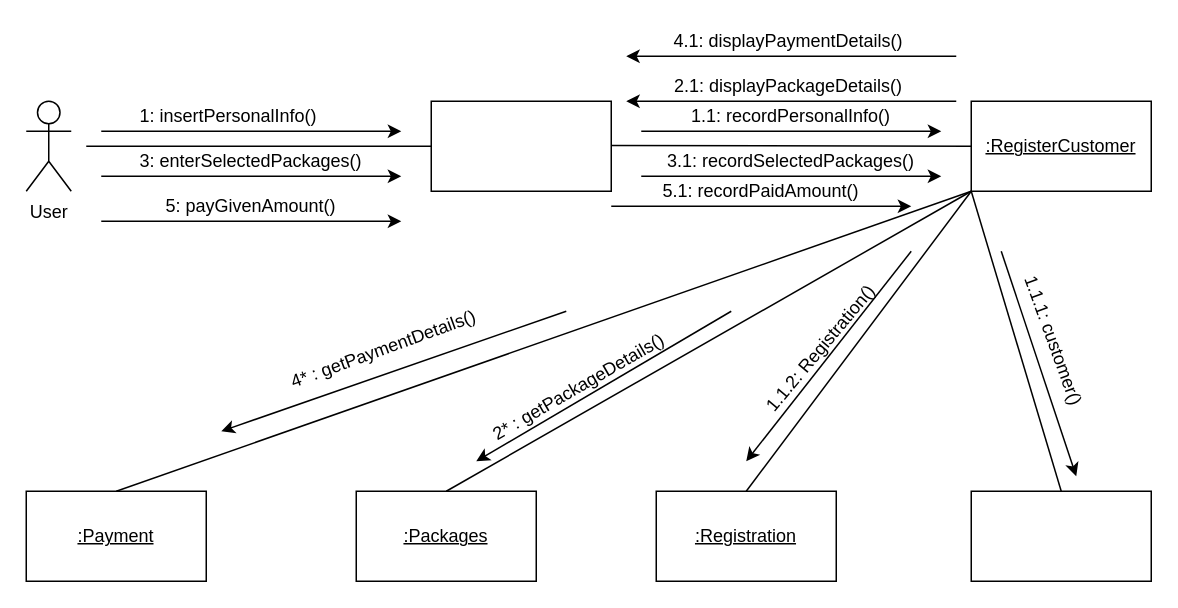
Image size: 1178x608. Some labels were removed from this diagram. The box of each missing label's shape, as (x1, y1, x2, y2) in pixels:
:Customer: (970, 490, 1151, 581)
:RegisterCustomerUI: (430, 100, 611, 191)
